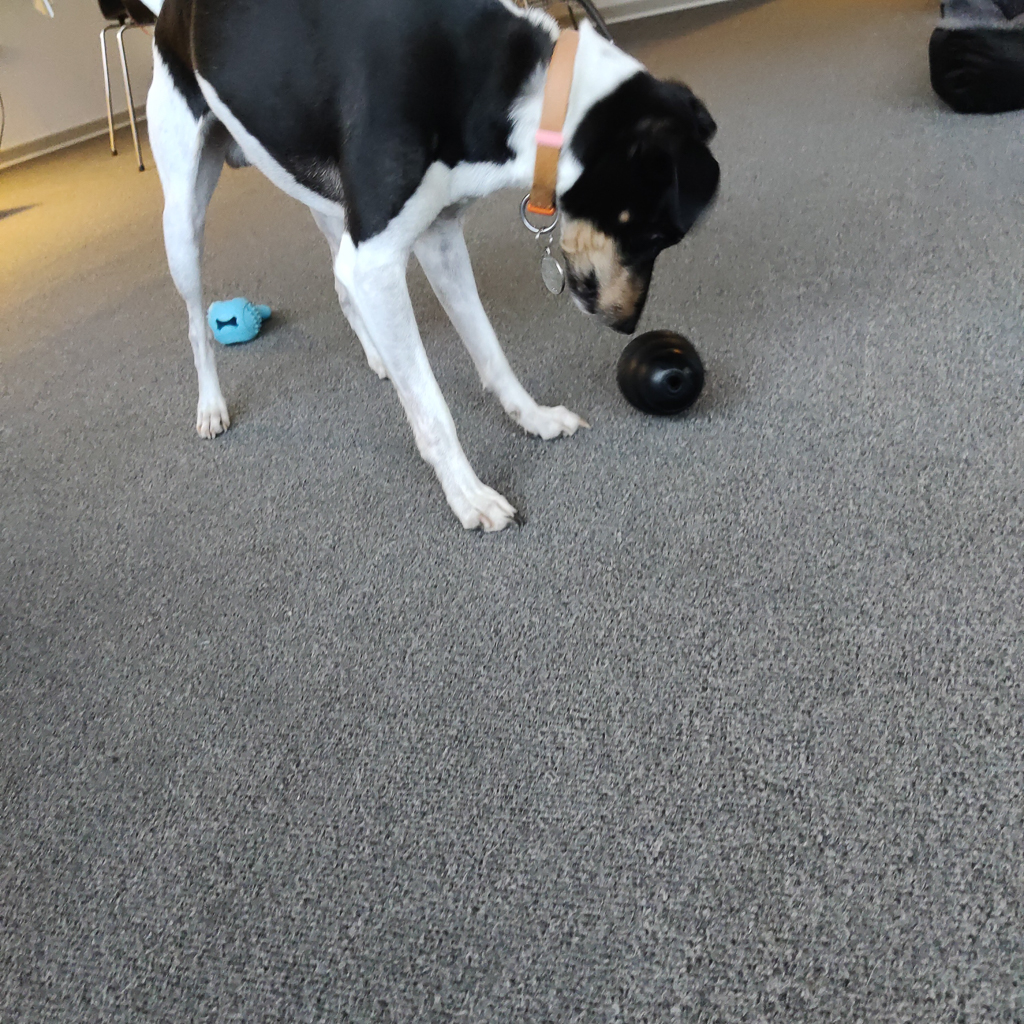Dog: (121, 0, 735, 547)
